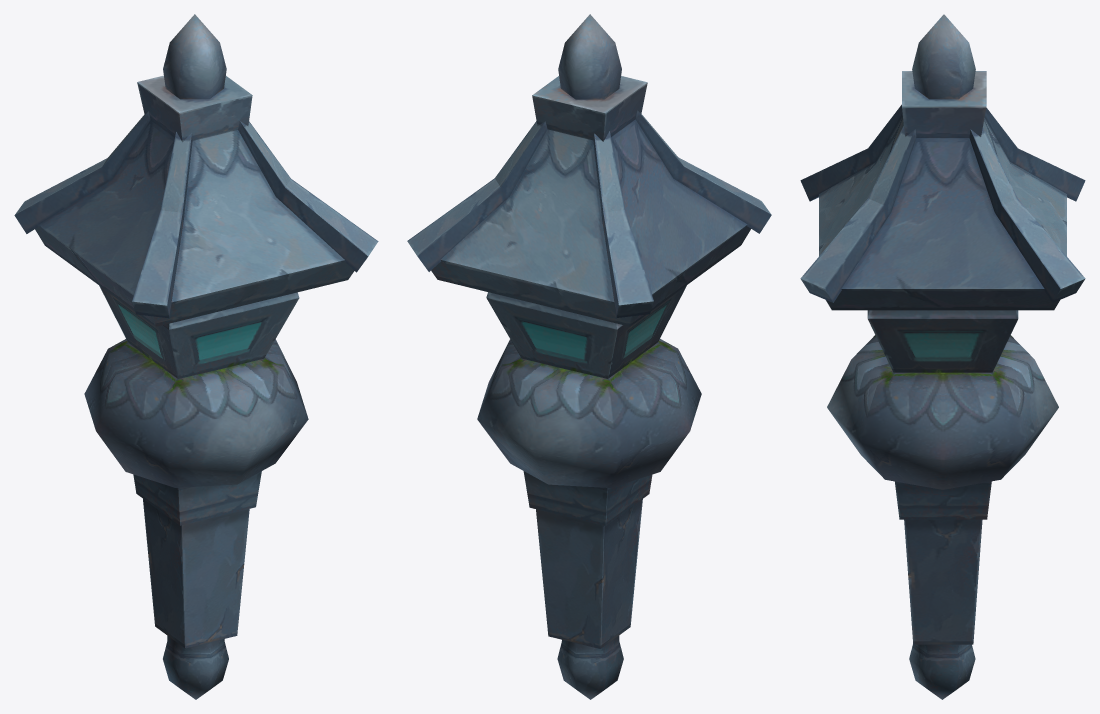
The model's file is fb_tys_zj_02_e.FBX.
3 views of the same model, side by side, from view 1: azimuth 30°, elevation 25°; view 2: azimuth 150°, elevation 25°; view 3: azimuth 270°, elevation 25° (orthographic).
Parts seen in each view (by area): view 1: fb_tys_zj_02_e; view 2: fb_tys_zj_02_e; view 3: fb_tys_zj_02_e.
Part boxes in pixels (x1,y1,x2,y2): fb_tys_zj_02_e: (14,14,378,699); fb_tys_zj_02_e: (407,14,771,699); fb_tys_zj_02_e: (800,14,1085,699).
Bounding box in the file's own units: 453 × 1204 × 454.
